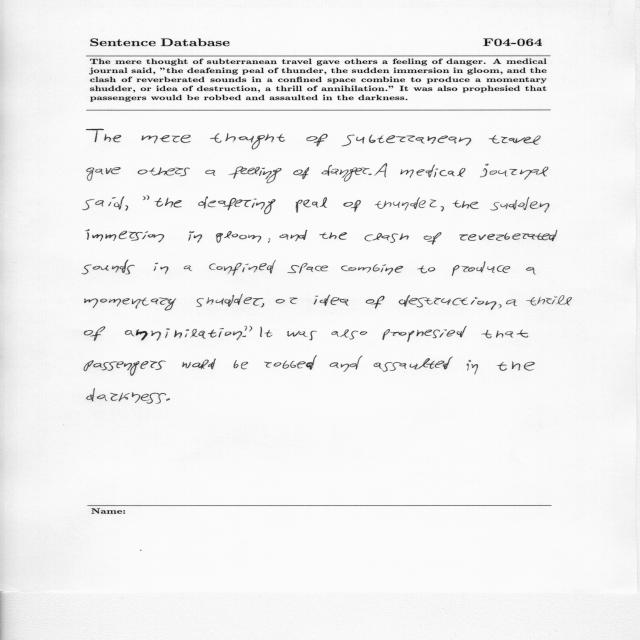word: (399, 295, 497, 310), (342, 135, 471, 146), (199, 197, 276, 215), (382, 326, 467, 342), (84, 360, 166, 376), (125, 328, 224, 341), (87, 388, 166, 404), (210, 133, 285, 149), (373, 357, 453, 372), (85, 298, 176, 311), (480, 164, 548, 180), (459, 230, 557, 241), (86, 230, 164, 243), (209, 260, 276, 275), (229, 167, 282, 184), (491, 197, 550, 212), (452, 261, 510, 276), (375, 197, 437, 211), (400, 165, 466, 178), (197, 294, 263, 307), (321, 165, 370, 182), (264, 355, 317, 370), (82, 260, 135, 274), (341, 264, 403, 275), (83, 196, 124, 210), (330, 355, 363, 372), (216, 231, 261, 243), (489, 135, 541, 145), (526, 295, 572, 306), (296, 197, 327, 213), (87, 167, 121, 181), (138, 167, 190, 176), (87, 129, 122, 142), (365, 233, 409, 243), (314, 294, 349, 306), (287, 263, 328, 273), (141, 135, 191, 143), (497, 361, 535, 371), (482, 330, 529, 338), (182, 359, 216, 370), (332, 330, 367, 340), (85, 326, 106, 341), (280, 230, 308, 241), (287, 331, 317, 341), (155, 198, 182, 208), (233, 326, 252, 340), (307, 134, 328, 146), (366, 296, 385, 309), (452, 200, 479, 209), (424, 232, 442, 245), (319, 232, 347, 240), (343, 200, 361, 212), (293, 167, 309, 179), (375, 164, 388, 177), (188, 231, 202, 243), (466, 360, 478, 374), (154, 263, 169, 274), (418, 266, 436, 274), (276, 298, 298, 304), (260, 327, 273, 337), (234, 360, 248, 369), (506, 299, 517, 306), (526, 267, 536, 274), (206, 170, 216, 176), (183, 265, 192, 271), (143, 196, 150, 201), (225, 331, 232, 336), (126, 205, 129, 211), (441, 206, 444, 211), (261, 304, 264, 308), (499, 304, 502, 308), (166, 398, 170, 401), (268, 238, 270, 243), (368, 174, 372, 175)
